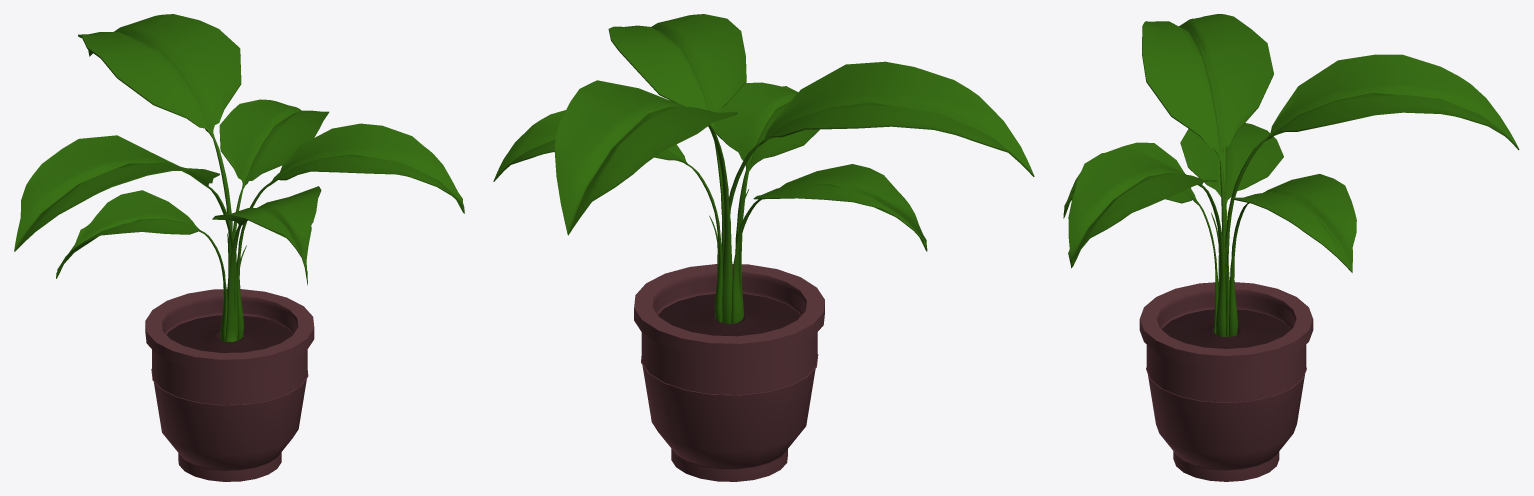
The model's file is plant.glb.
3 views of the same model, side by side, from view 1: azimuth 30°, elevation 25°; view 2: azimuth 150°, elevation 25°; view 3: azimuth 270°, elevation 25° (orthographic). The views are drawn at different scales.
Parts seen in each view (by area): view 1: polySurface7.001, pCylinder1; view 2: polySurface7.001, pCylinder1; view 3: polySurface7.001, pCylinder1.
Part boxes in pixels (left/top/right/bottom): polySurface7.001: left=14, top=14, right=464, bottom=341; pCylinder1: left=145, top=289, right=314, bottom=481; polySurface7.001: left=493, top=14, right=1034, bottom=323; pCylinder1: left=634, top=264, right=824, bottom=481; polySurface7.001: left=1063, top=14, right=1519, bottom=336; pCylinder1: left=1139, top=282, right=1313, bottom=481.
Bounding box in the file's own units: 0.1751 × 0.151 × 0.1661.
